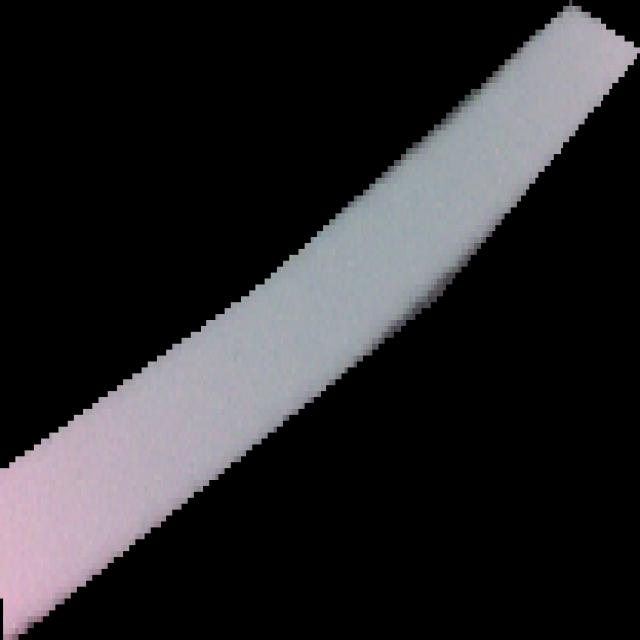lane: (0, 1, 640, 640)
